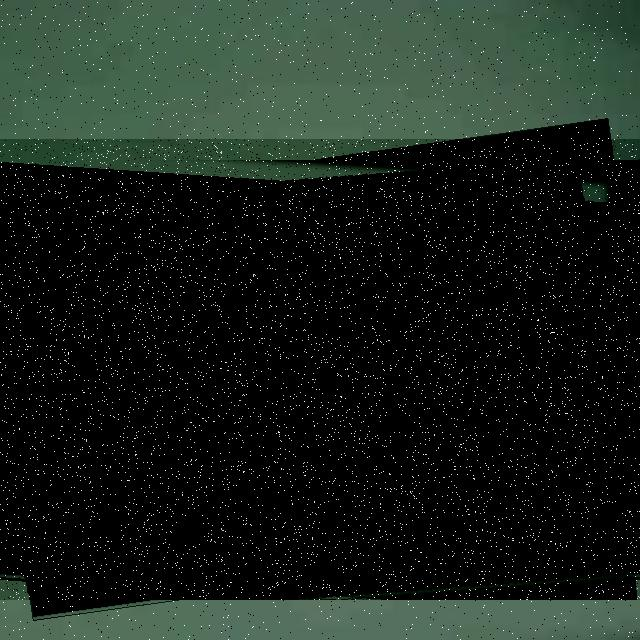dua ribu rupiah: (0, 139, 640, 600)
